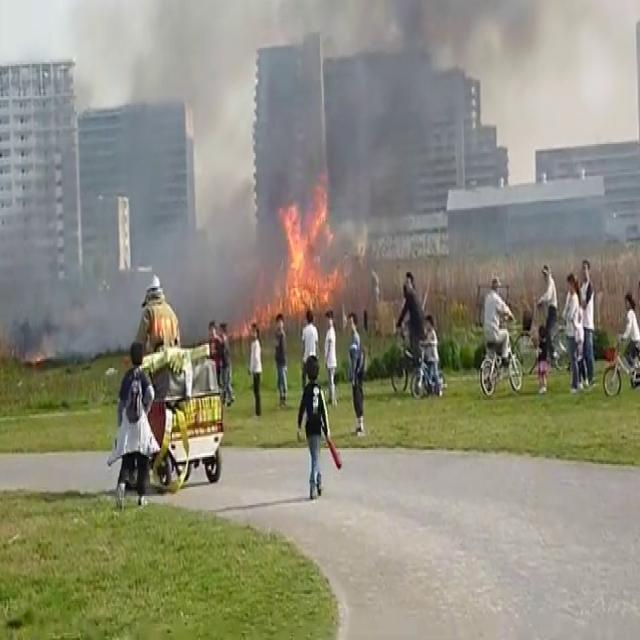Fire: (271, 178, 345, 316)
Smoke: (14, 0, 640, 274)
